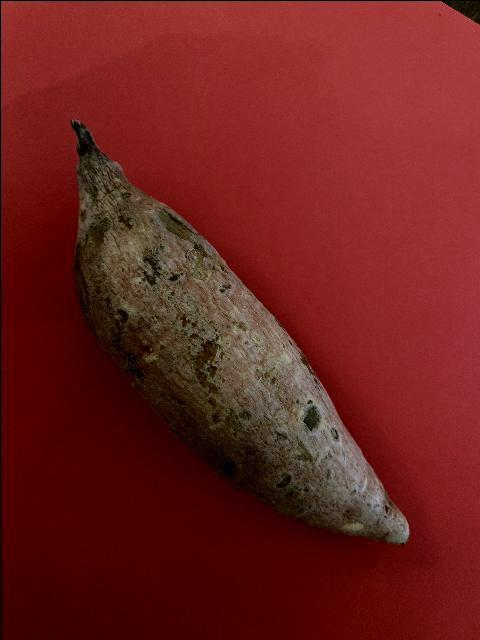sweetpotato: (66, 115, 410, 549)
